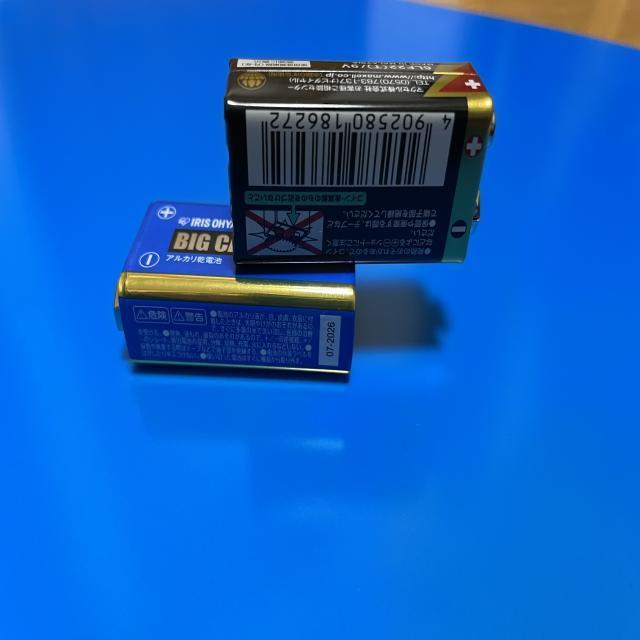9V: (225, 61, 497, 266), (113, 201, 356, 379)
